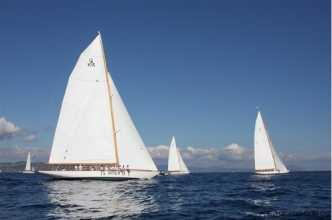fanchuan: (34, 28, 159, 181), (251, 109, 293, 177), (165, 136, 192, 178), (18, 149, 36, 175)
